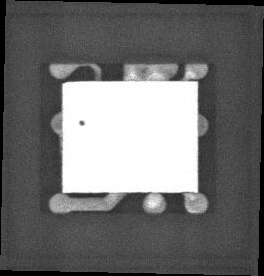DIE_INK: (73, 124, 82, 133)
